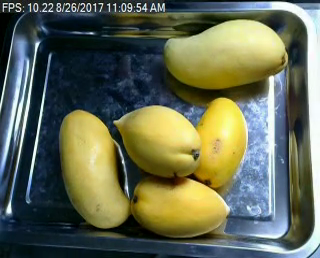Mango: (55, 104, 134, 229), (159, 16, 288, 90), (114, 105, 202, 179), (127, 173, 226, 236), (188, 97, 251, 188)
